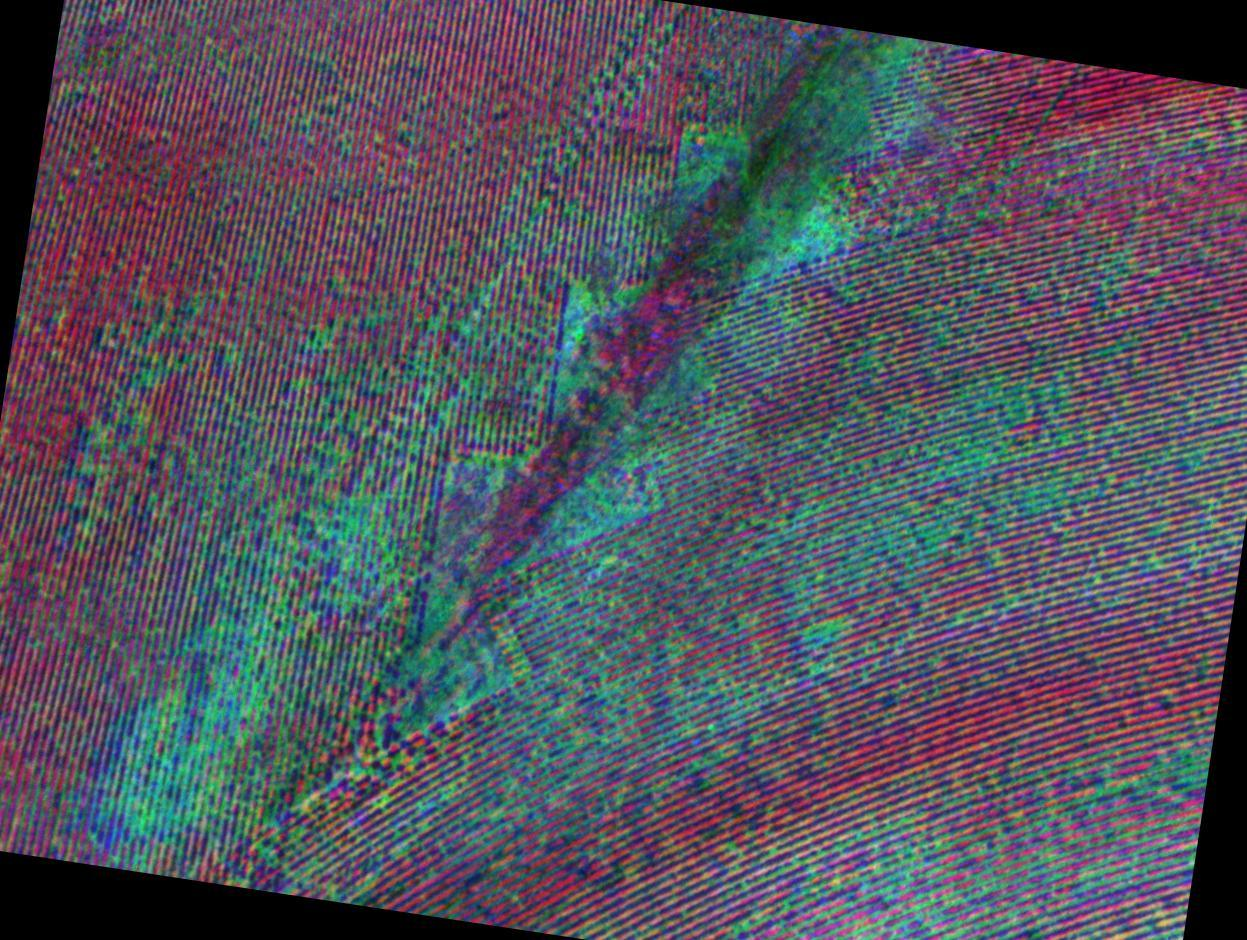dc: (103, 718, 240, 829), (943, 435, 1031, 520), (308, 488, 384, 570), (783, 188, 849, 252), (583, 480, 643, 533)
